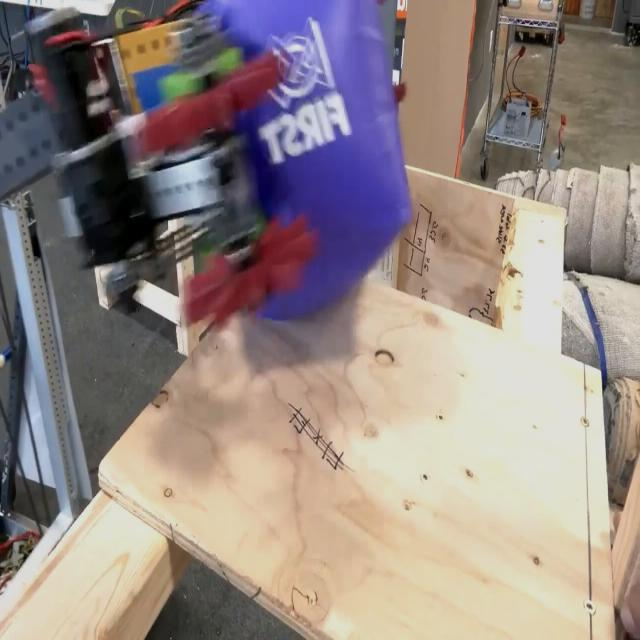frc_cube: (202, 0, 400, 326)
